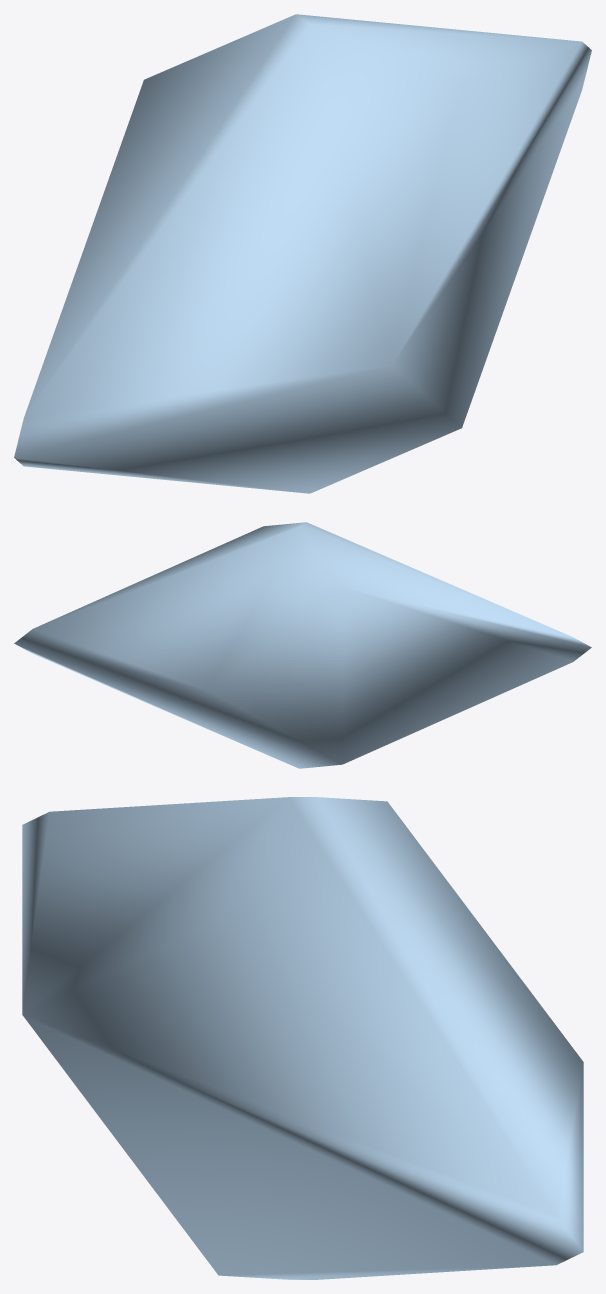
Rendered from realgar.glb.
3 renders of one model, top to bottom at view 1: azimuth 30°, elevation 25°; view 2: azimuth 150°, elevation 25°; view 3: azimuth 270°, elevation 25°, orthographic. The views are drawn at different scales.
Parts seen in each view (by area): view 1: realgar; view 2: realgar; view 3: realgar.
Part boxes in pixels (x1,y1,x2,y2): realgar: (14,14,591,493); realgar: (14,522,591,768); realgar: (22,797,583,1279).
Bounding box in the file's own units: 2.55 × 1.34 × 1.41.
